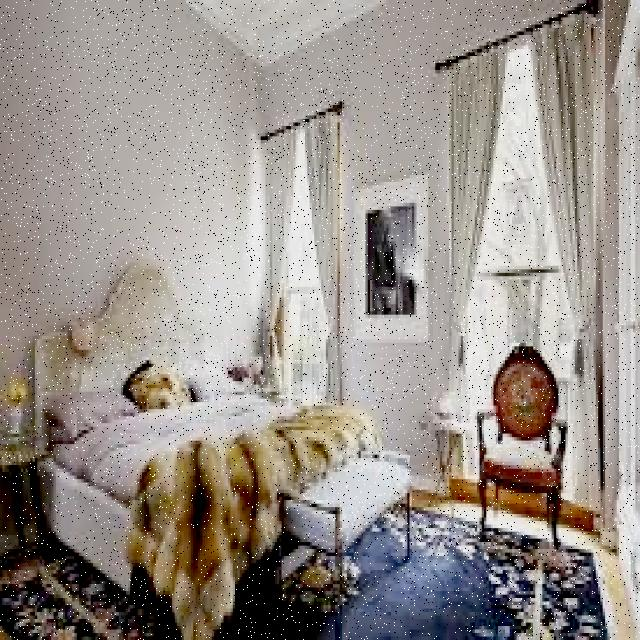bed: (40, 330, 372, 577)
